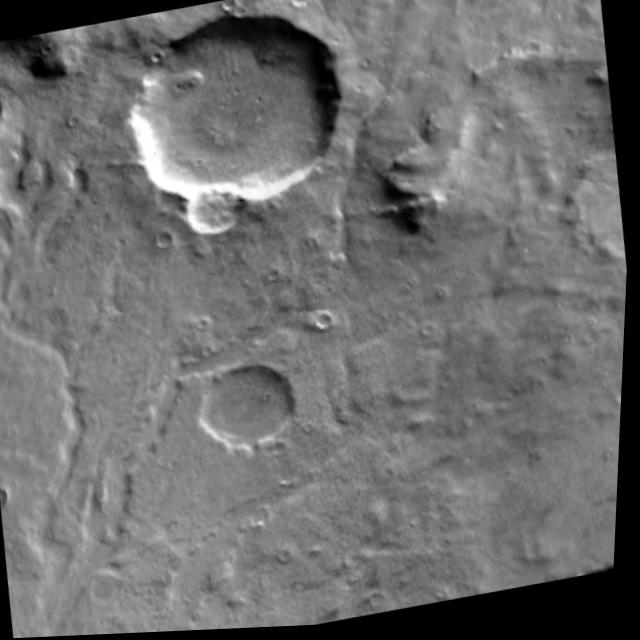Crater: (113, 0, 365, 236)
